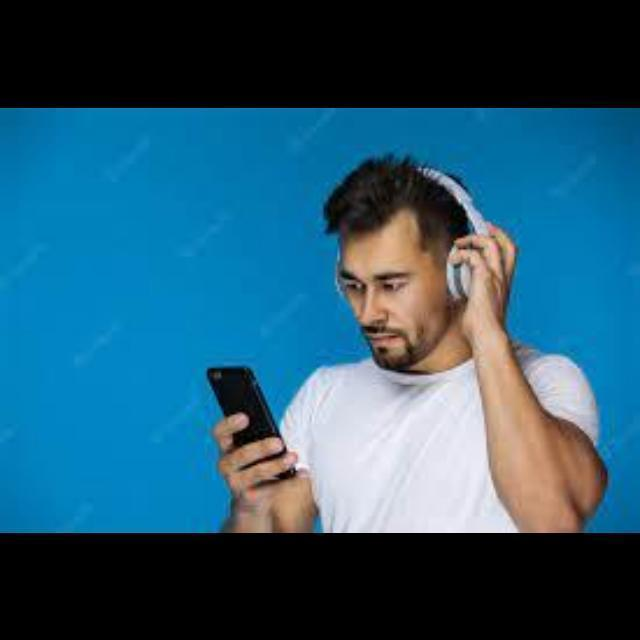phone: (178, 329, 330, 522)
